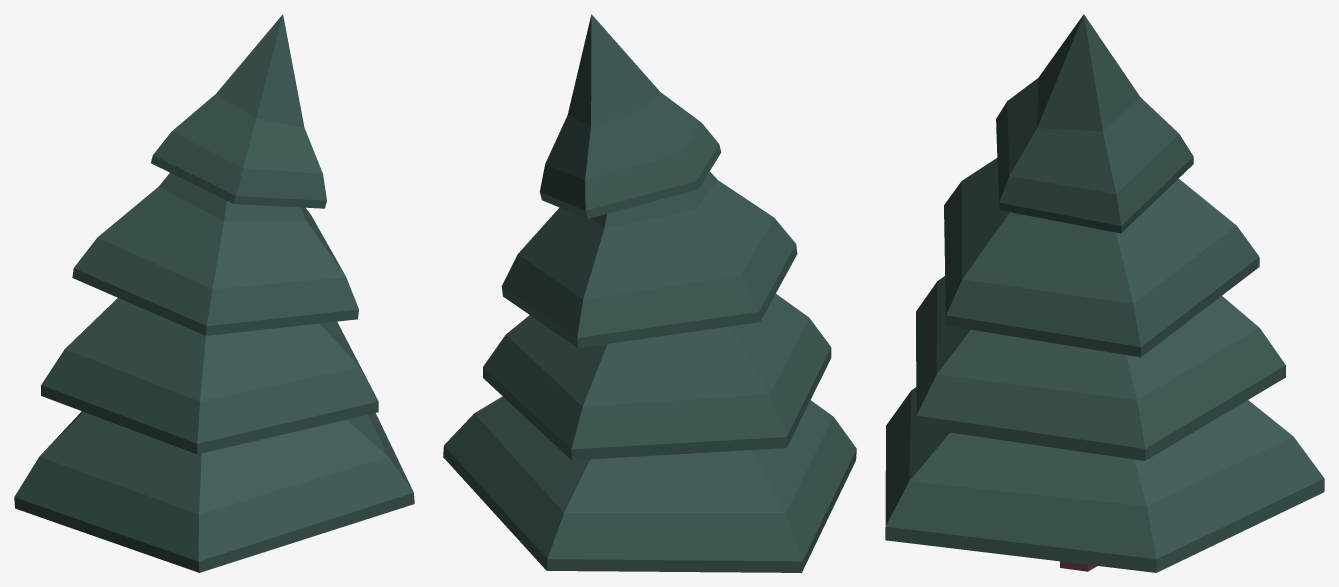
File: tree_1.fbx
The picture shows the model from 3 angles, left to right: view 1: azimuth 30°, elevation 25°; view 2: azimuth 150°, elevation 25°; view 3: azimuth 270°, elevation 25°; orthographic projection. The views are drawn at different scales.
Visible parts, largest first — view 1: Cone, Cone.001, Cone.002, Cone.003; view 2: Cone, Cone.001, Cone.002, Cone.003; view 3: Cone, Cone.002, Cone.001, Cone.003.
Boxes of the visible parts, <box> form: Cone: <box>14,411,414,572</box>; Cone.001: <box>41,298,378,454</box>; Cone.002: <box>72,173,358,335</box>; Cone.003: <box>151,14,326,208</box>; Cone: <box>443,396,856,572</box>; Cone.001: <box>483,294,831,460</box>; Cone.002: <box>501,171,797,348</box>; Cone.003: <box>540,14,721,218</box>; Cone: <box>885,387,1324,572</box>; Cone.002: <box>944,158,1259,357</box>; Cone.001: <box>916,276,1285,460</box>; Cone.003: <box>996,14,1193,233</box>.
Size of the model in its own units: 135 by 189 by 128.
